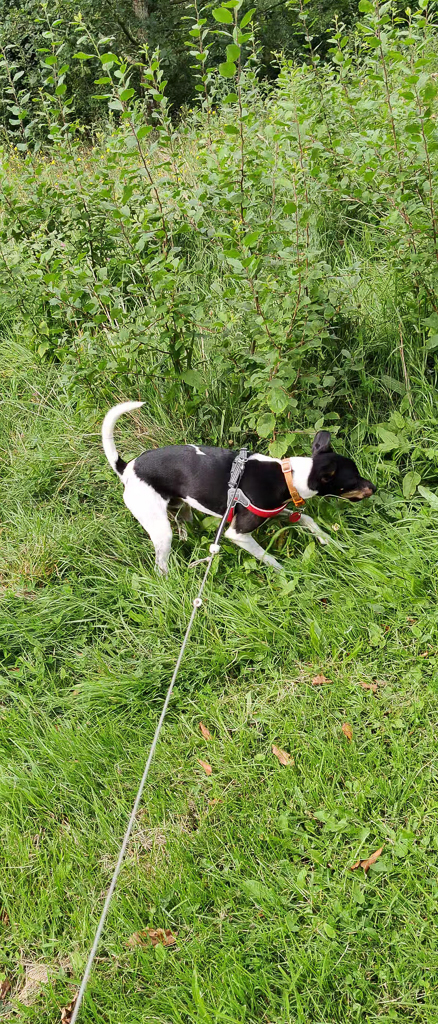Dog: (84, 389, 391, 604)
